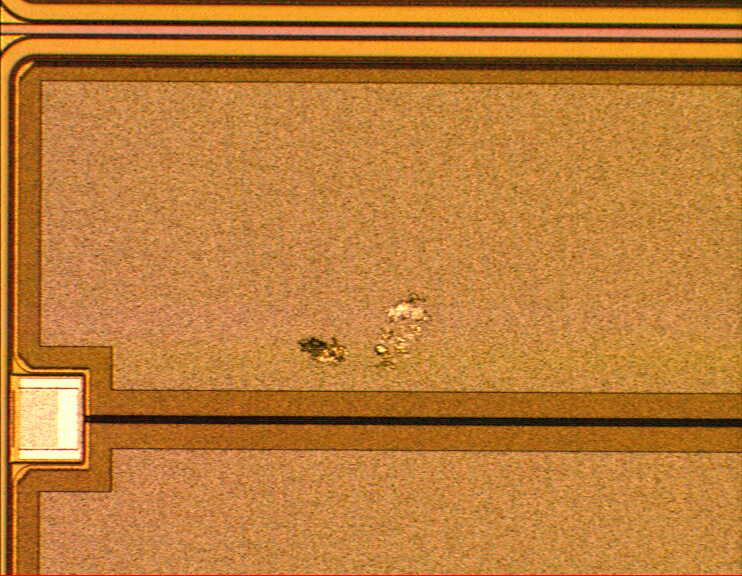SCRATCH: (290, 292, 443, 374)
